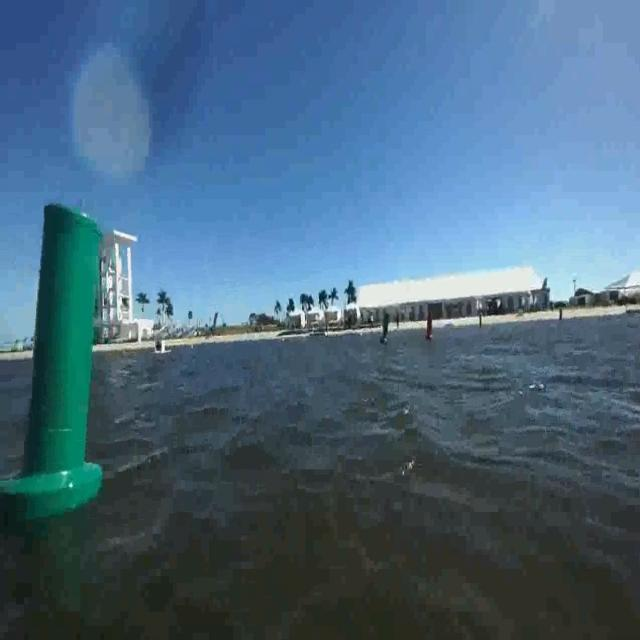green-column-buoy: (2, 202, 106, 512), (380, 309, 392, 344)
red-column-buoy: (424, 307, 435, 341)
